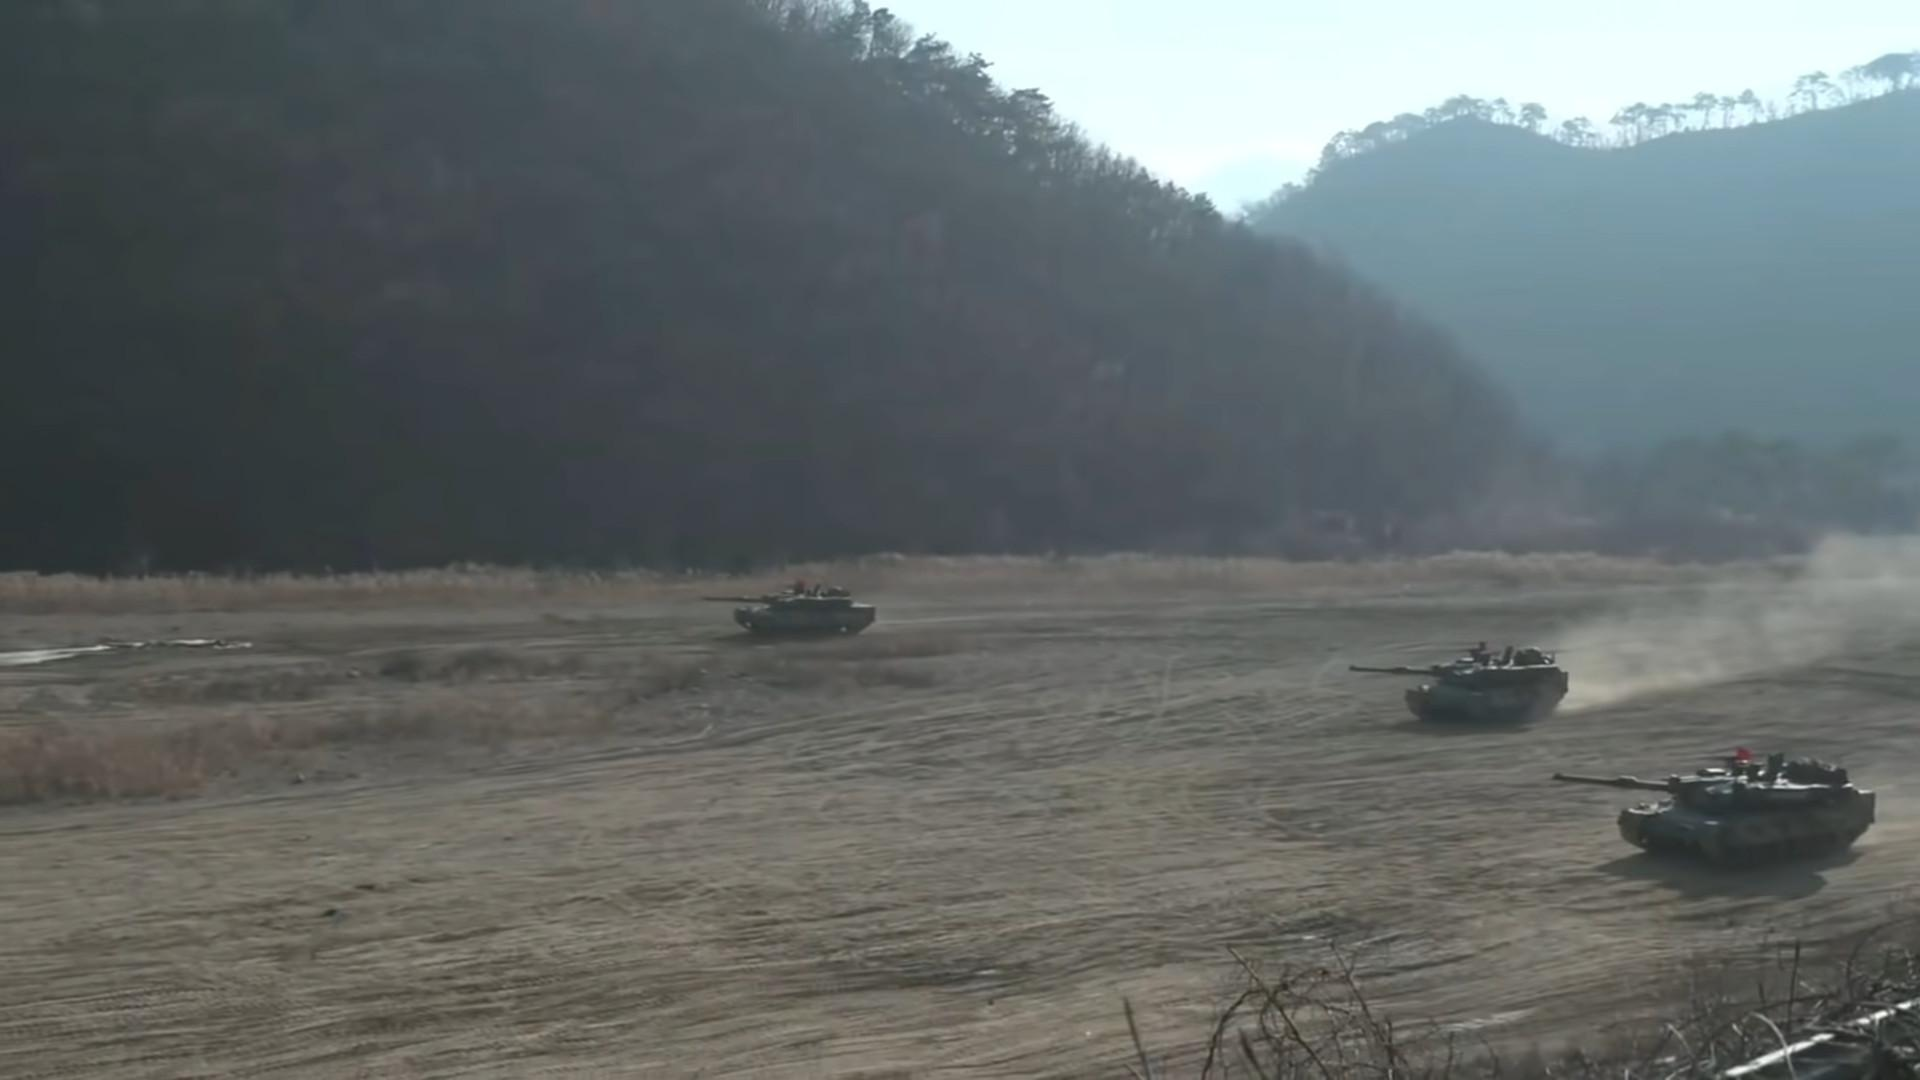tank: (1553, 753, 1875, 868), (1351, 642, 1569, 722), (702, 580, 876, 637)
